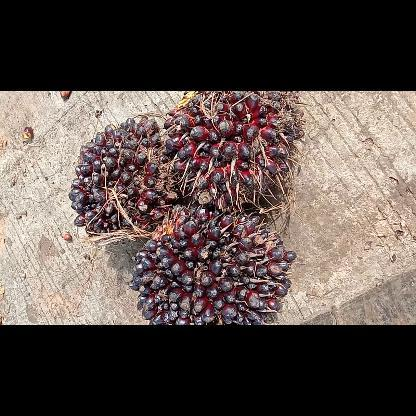TBS mentah: (126, 202, 298, 324), (160, 91, 308, 215), (66, 112, 184, 240)
